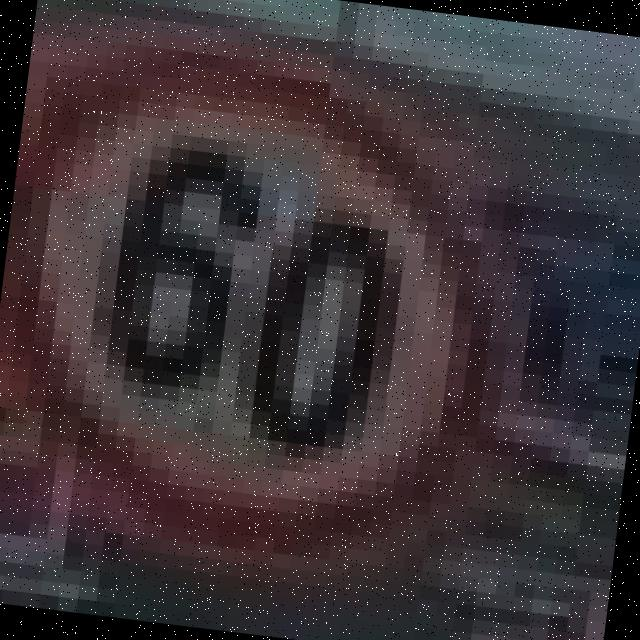Ograniczenie predkosci do 60: (0, 0, 523, 589)
